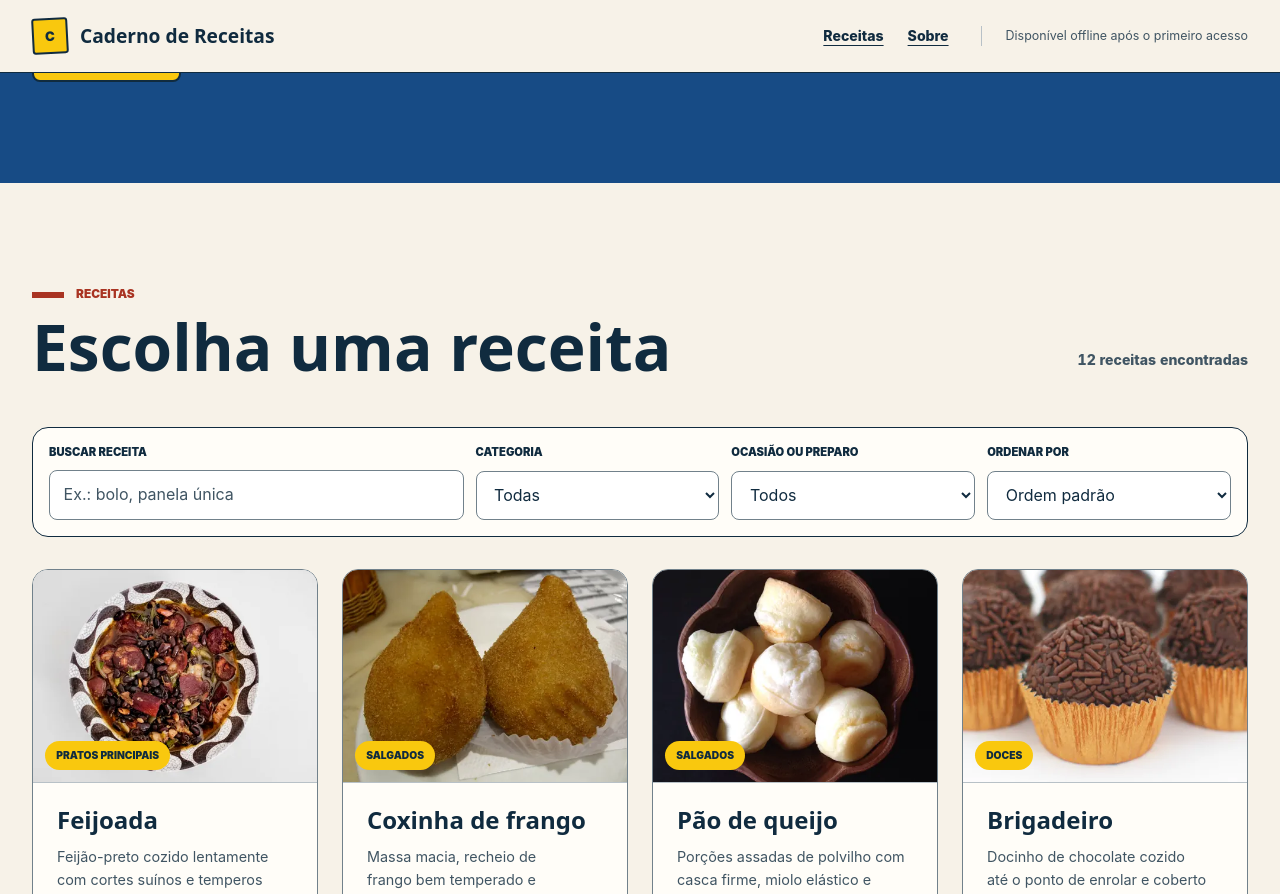
Test case: aplicação › filtra sem acento e exibe o estado vazio
(page scrolled)
Type "pao" into the search field labelled "Buscar receita" at (256,495), box x1=49 y1=470 x2=464 y2=520
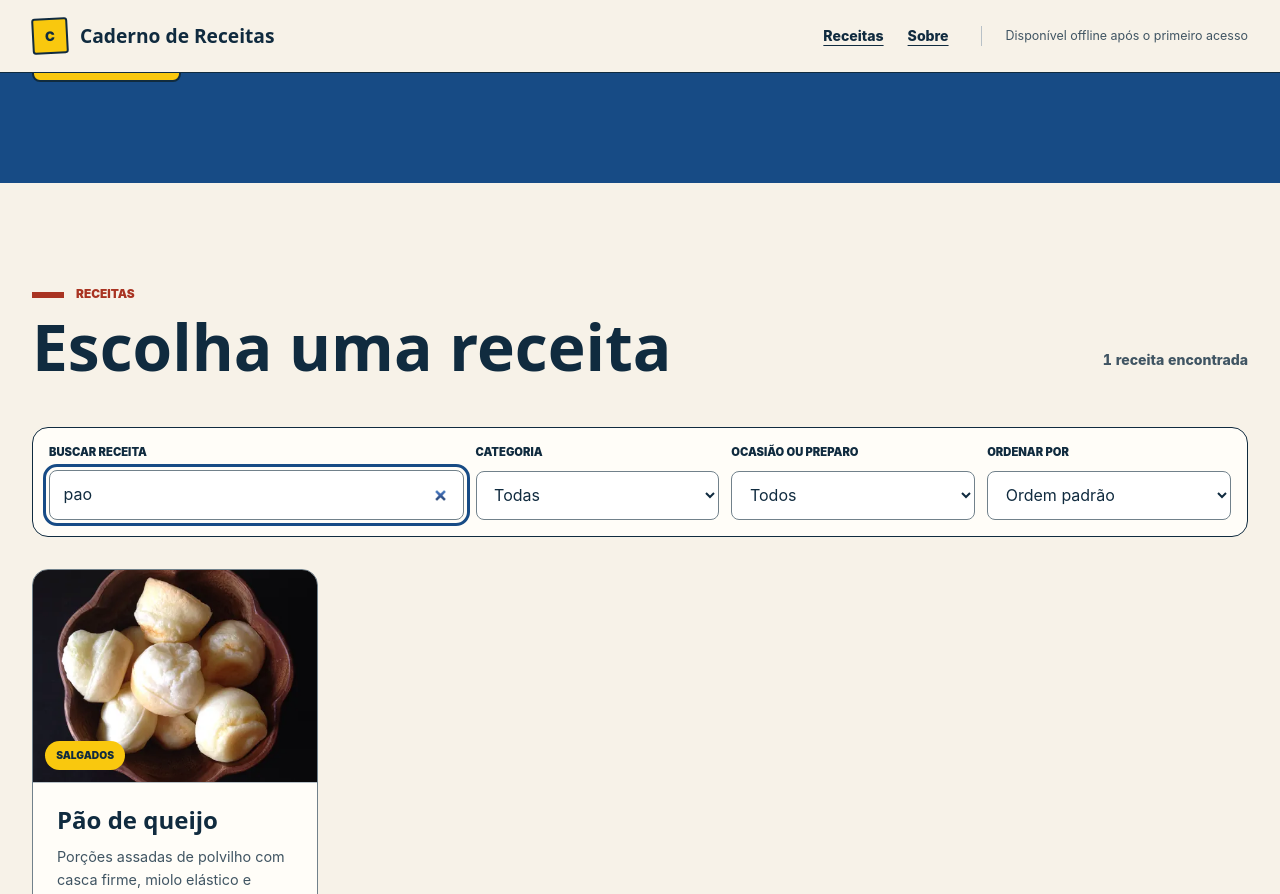
expect the heading "Pão de queijo" is shown: met, box x1=57 y1=803 x2=218 y2=836
expect the text "1 receita encontrada" is shown: met, box x1=1103 y1=348 x2=1248 y2=371
Replace the text in the search field labelled "Buscar receita" with "receita inexistente" at (256,495), box x1=49 y1=470 x2=464 y2=520
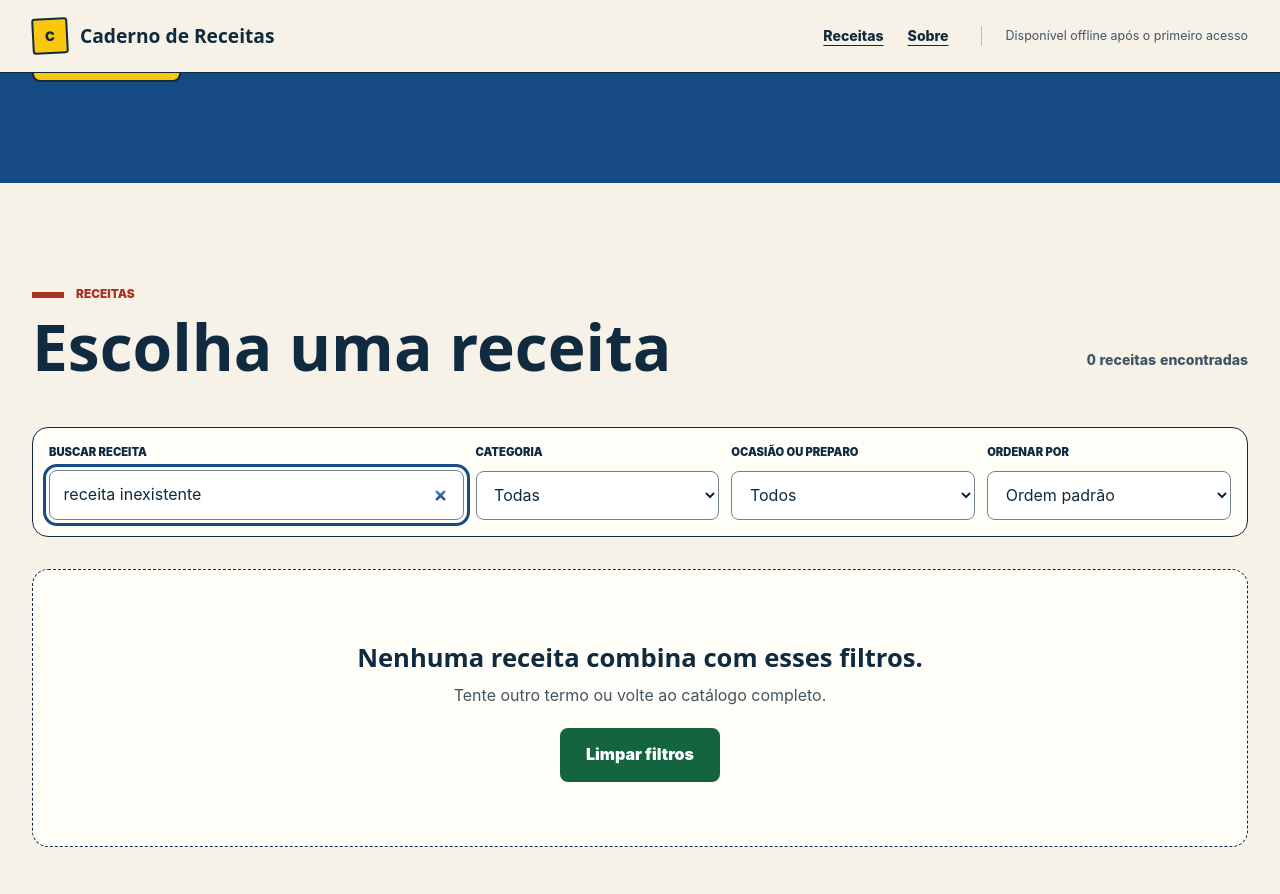
expect the text "Nenhuma receita combina com esses filtros." is shown: met, box x1=357 y1=640 x2=923 y2=675
Click the button "Limpar filtros" at (640,755), box x1=560 y1=728 x2=720 y2=782
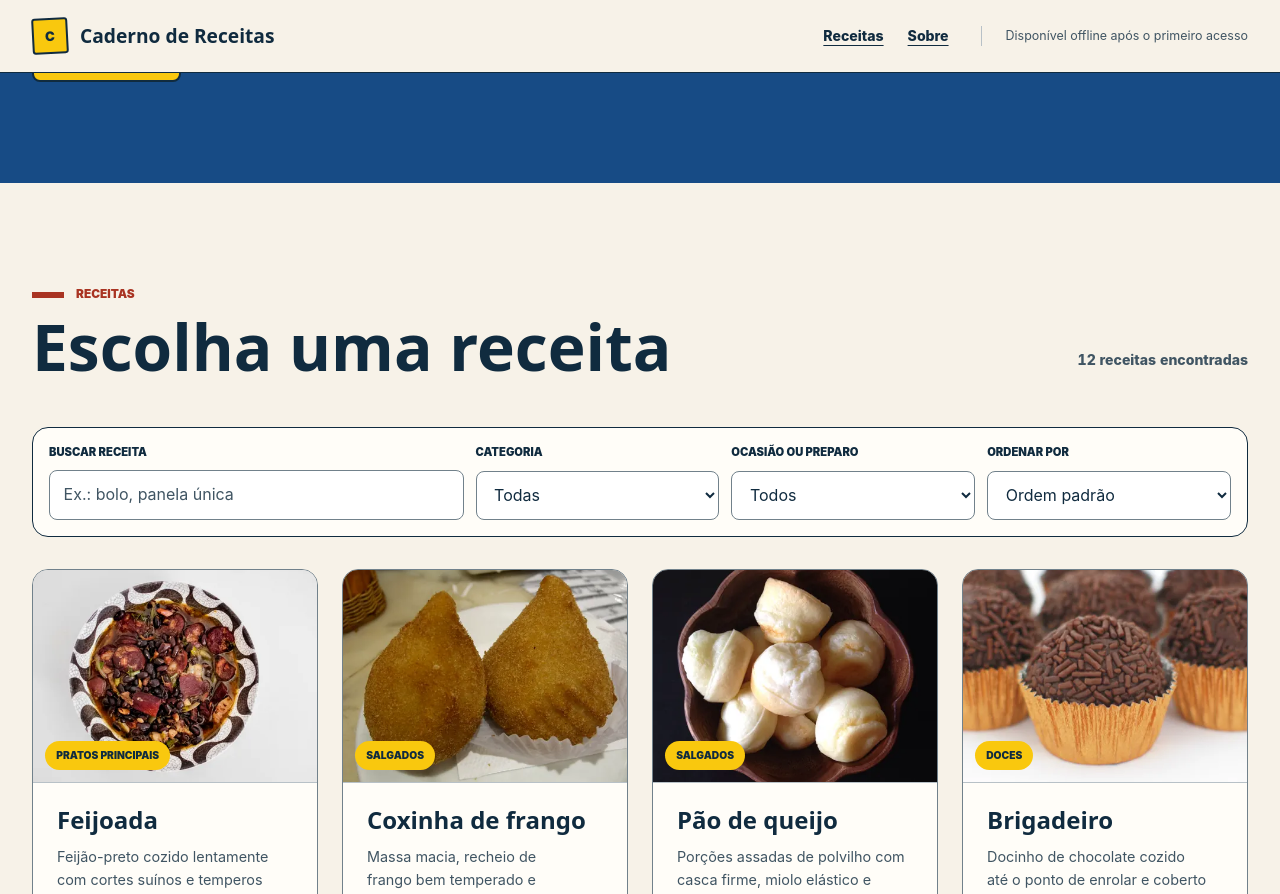
expect the text "12 receitas encontradas" is shown: met, box x1=1078 y1=348 x2=1248 y2=371
